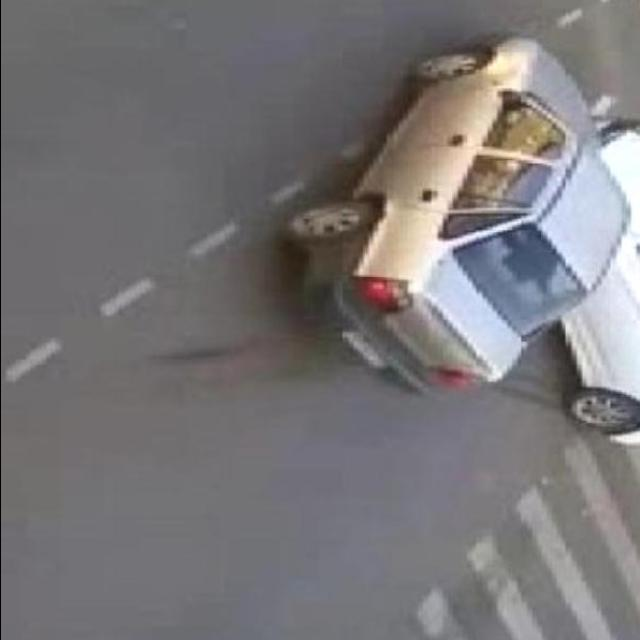accident: (289, 22, 640, 446)
